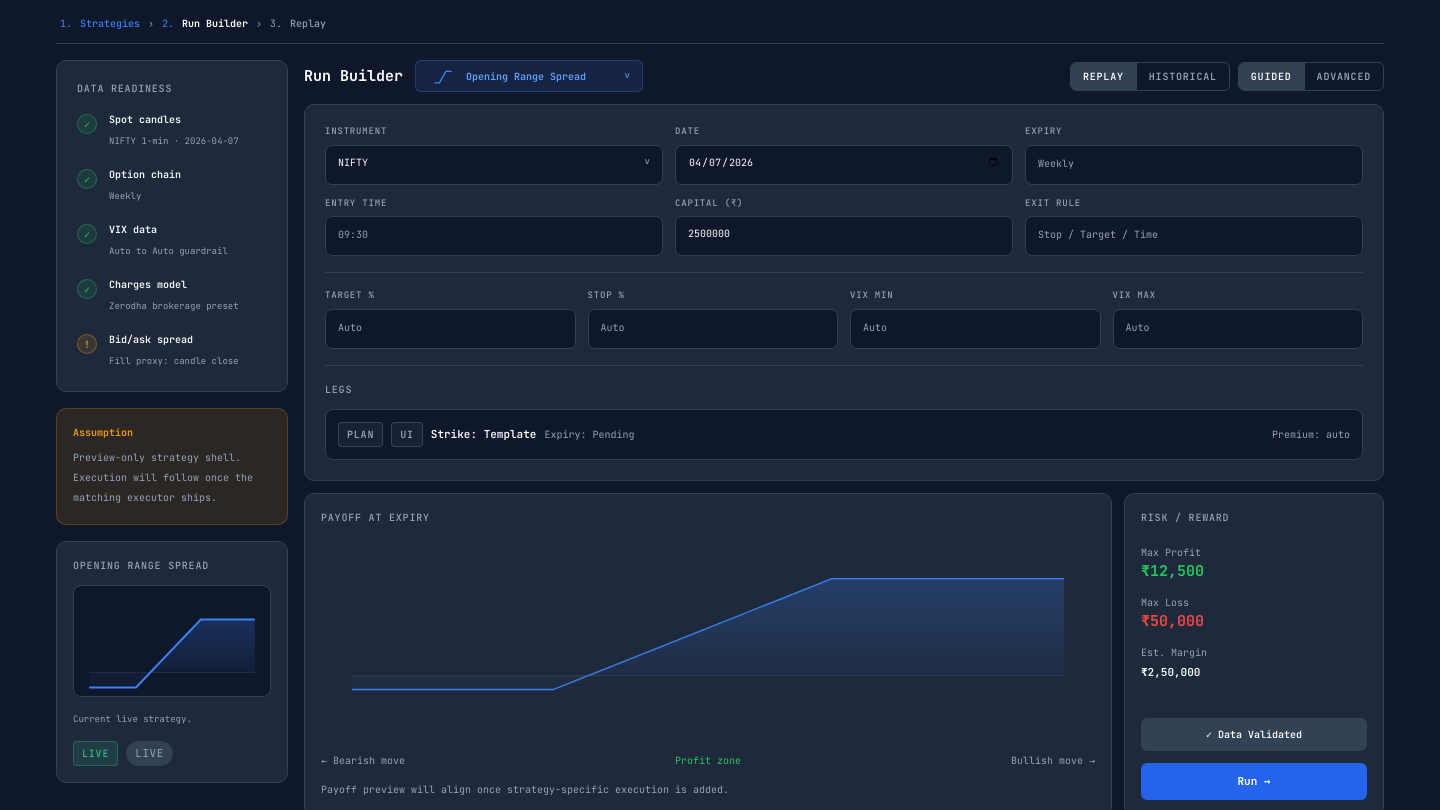
RunBuilder › does not mark historical spot readiness green when the selected range is not ready
Expected: the dropdown showing "NIFTY" is shown, [338,154,650,170]
Click the button "Historical": (1182, 76) [1136,62,1229,90]
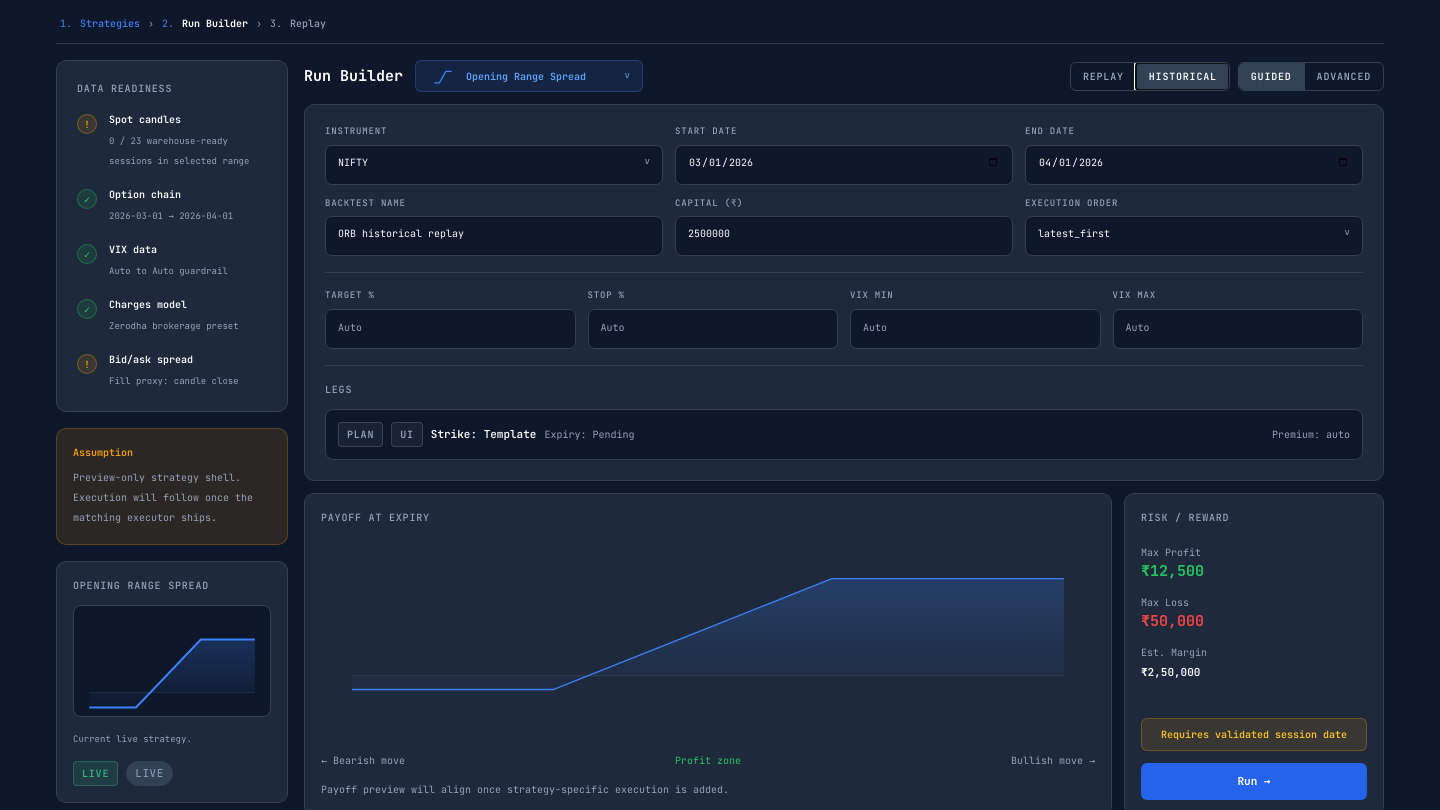
Expected: the text "0 / 23 warehouse-ready sessions in selected range" is shown, [109,131,267,171]
Expected: the text "Requires validated session date" is shown, [1141,718,1367,751]
